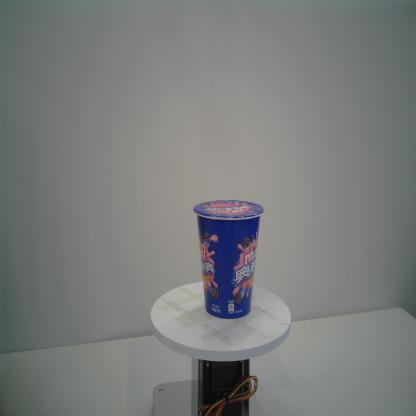Dessert: (192, 198, 265, 321)
